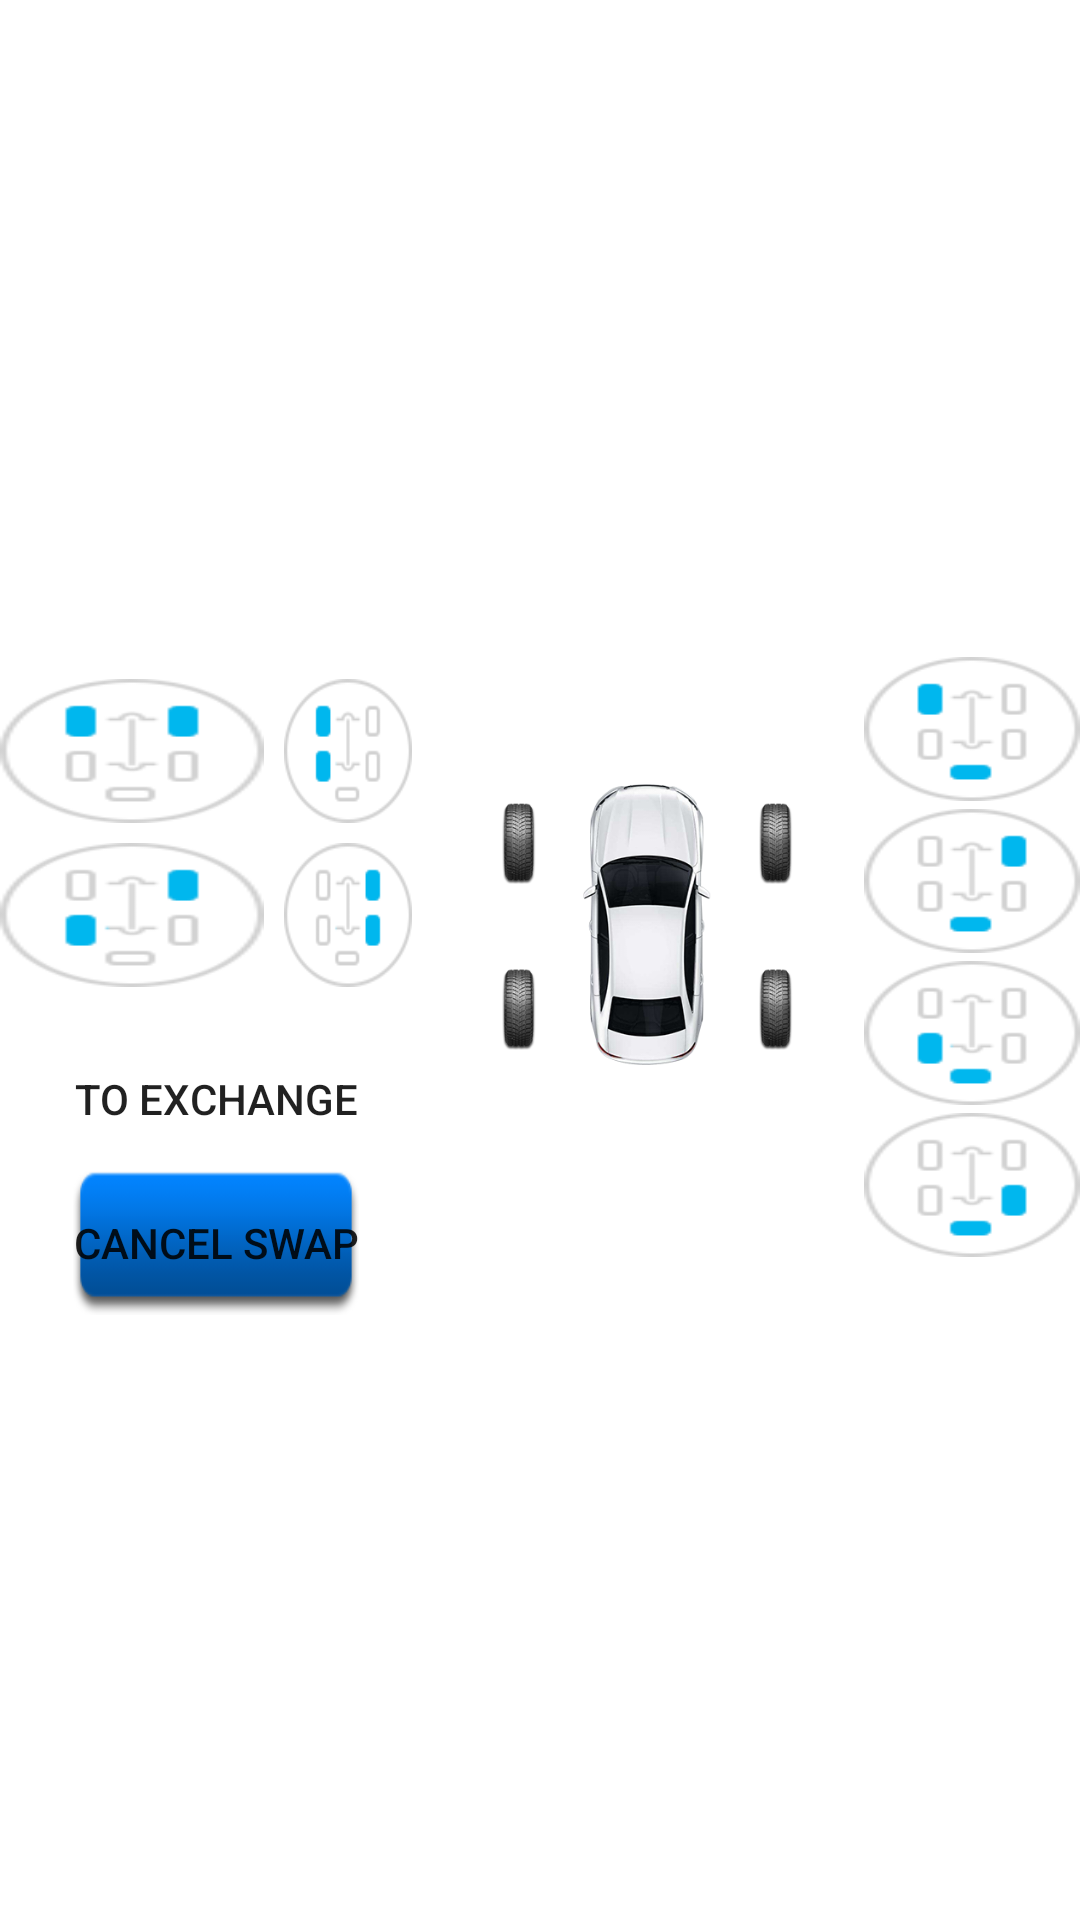

Named icons in this screenshot (1080 x 1920) and their centers, (x=x, y=y):
FL and FR exchange: (x=132, y=751)
FL and RL exchange: (x=348, y=751)
FL and Spare tire exchange: (x=972, y=729)
FR and RL exchange: (x=132, y=915)
FR and RR exchange: (x=348, y=915)
FR and Spare tire exchange: (x=972, y=881)
RL and Spare tire exchange: (x=972, y=1033)
RR and Spare tire exchange: (x=972, y=1185)
